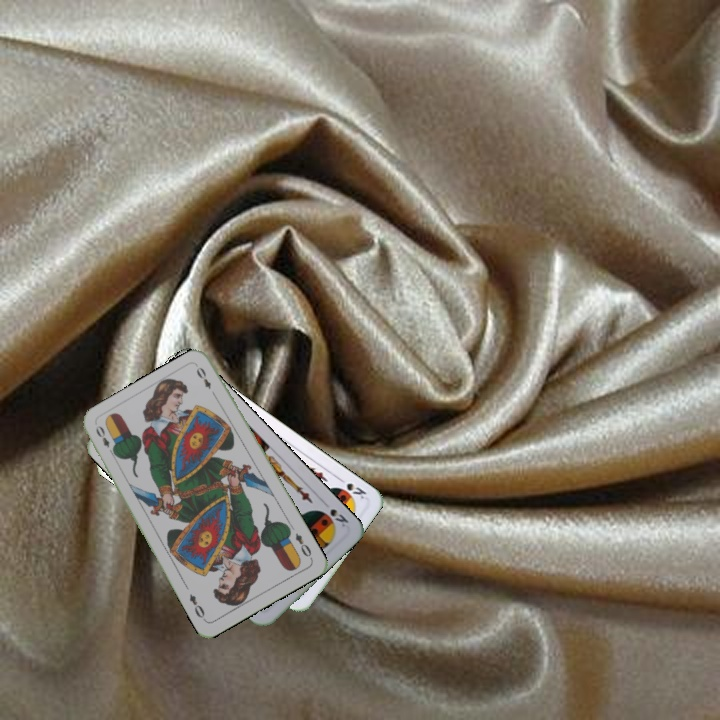EO: (91, 421, 118, 458), (291, 529, 315, 562)
SK: (333, 473, 369, 502), (326, 505, 351, 530)
